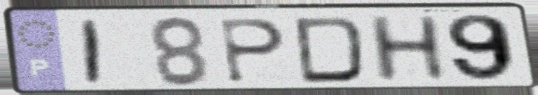8: (147, 14, 214, 90)
9: (445, 12, 521, 85)
D: (292, 14, 369, 86)
H: (363, 14, 452, 86)
I: (81, 18, 104, 88)
P: (217, 17, 289, 86)
